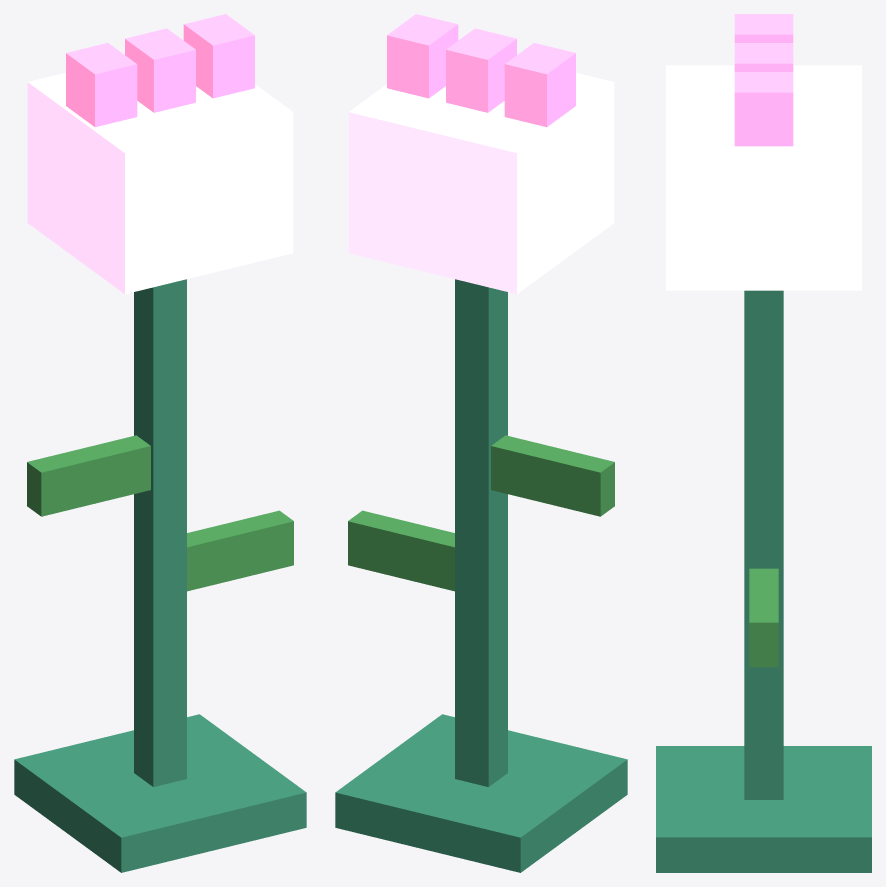
File: ncb-lamp-flower.glb
The picture shows the model from 3 angles, left to right: view 1: azimuth 30°, elevation 25°; view 2: azimuth 150°, elevation 25°; view 3: azimuth 270°, elevation 25°; orthographic projection.
Visible parts, largest first — view 1: box-prop; view 2: box-prop; view 3: box-prop.
Part boxes in pixels (x1,y1,x2,y2): box-prop: (14,14,306,872); box-prop: (335,14,627,872); box-prop: (656,14,871,872).
Size of the model in its own units: 0.6 by 1.74 by 0.44.
